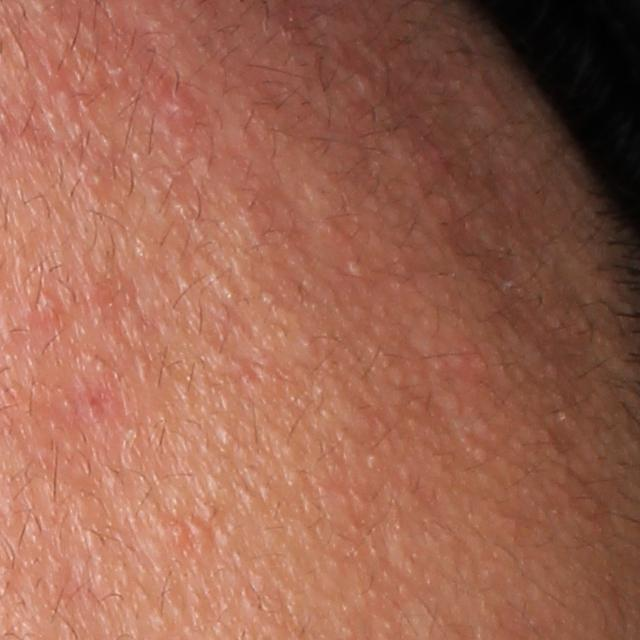papule: (151, 73, 215, 135), (36, 290, 64, 318)
